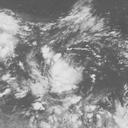cyclone: (44, 48, 97, 94)
